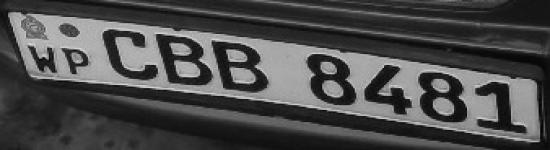1: (472, 76, 531, 137)
4: (362, 60, 415, 117)
8: (300, 49, 360, 109), (414, 66, 472, 126)
B: (210, 38, 274, 96), (154, 30, 214, 86)
C: (96, 24, 159, 84)
P: (62, 44, 92, 78)
W: (26, 42, 61, 78)
